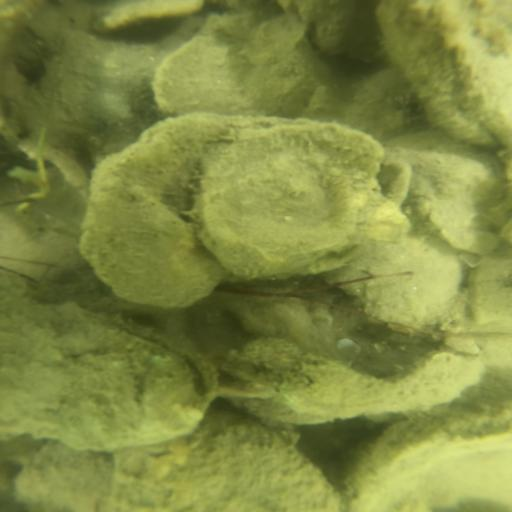Oyster-Closed: (88, 115, 225, 310), (115, 406, 336, 511), (383, 1, 512, 146), (352, 395, 511, 506), (154, 26, 317, 115), (360, 237, 463, 336), (16, 444, 111, 511), (236, 338, 304, 386), (476, 259, 504, 330)
Oyster-Open: (1, 277, 220, 447), (203, 121, 414, 275)
